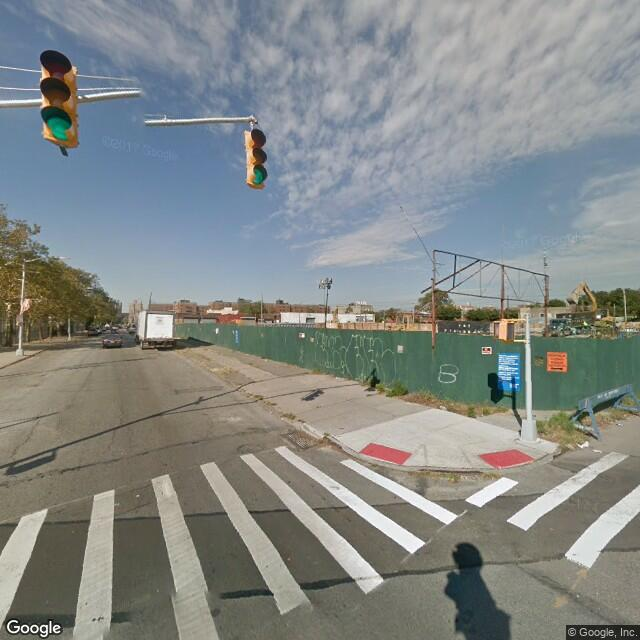litter: (578, 434, 601, 454)
